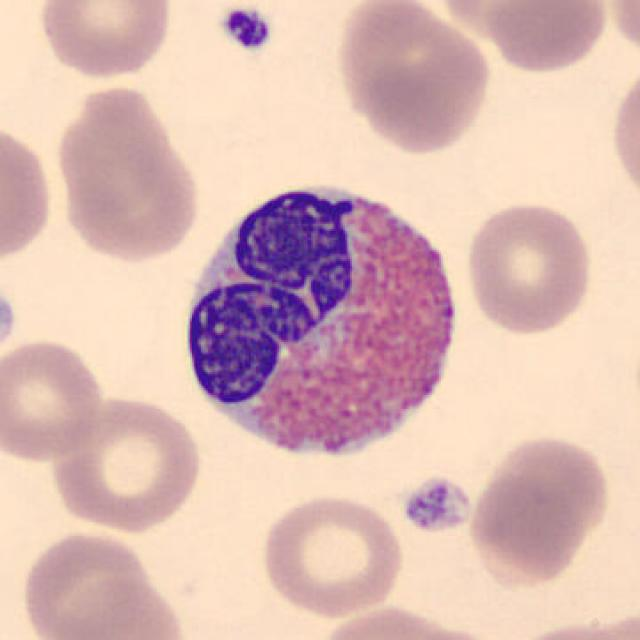Eosinophil: (169, 160, 475, 482)
Platelets: (398, 472, 475, 536), (217, 4, 275, 54)
RBC: (50, 80, 206, 266), (331, 0, 494, 157), (464, 430, 613, 584), (46, 392, 205, 534), (256, 490, 407, 619), (460, 197, 598, 337), (16, 529, 164, 640), (0, 335, 108, 463), (34, 0, 178, 81), (471, 0, 612, 76), (44, 573, 190, 640), (0, 116, 57, 270), (313, 601, 491, 640), (430, 0, 586, 42), (606, 58, 640, 210), (501, 613, 636, 640), (604, 0, 639, 63)
